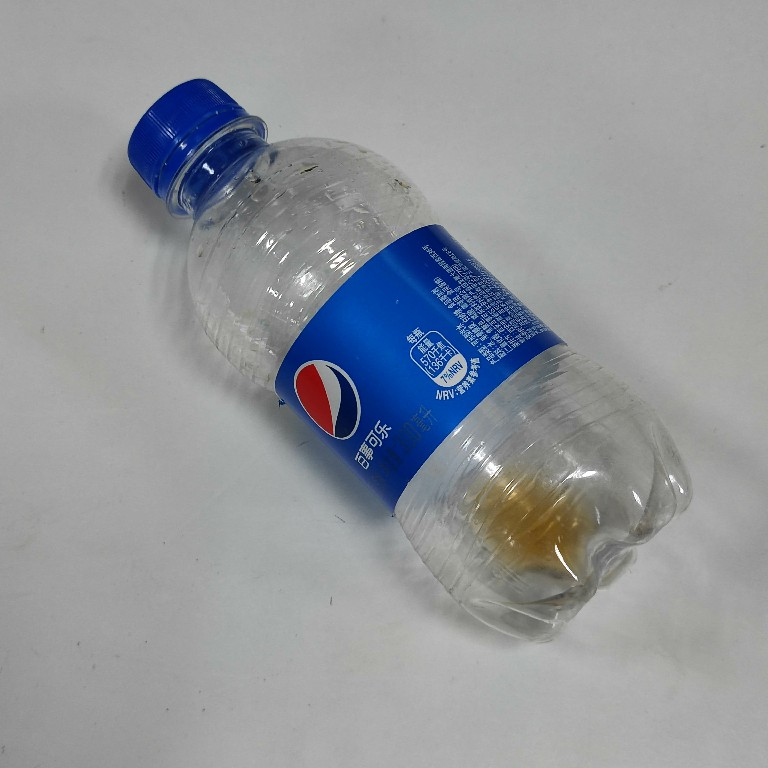bottle: (122, 70, 702, 651)
